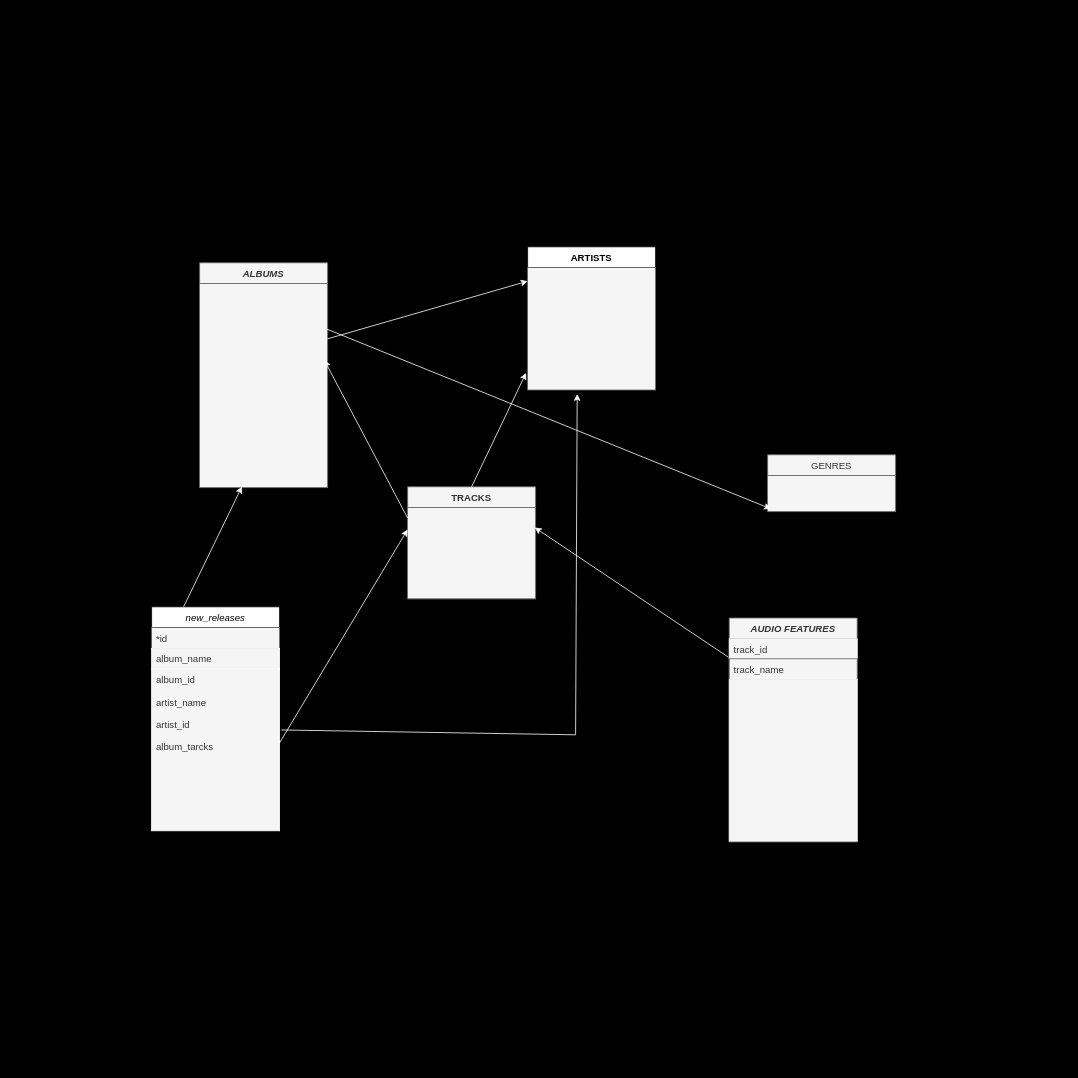
Image size: 1078x1078. Some labels were removed from this diagram. The centre of each missing label's shape, as x and y in pixels:
"* id album artists" belongs at [471,553].
"* id album_type artists genres tracks release_date total_tracks" belongs at [263,385].
"*id name genres followers popularity" belongs at [591,328].
"*name" belongs at [831,493].
"acousticness danceability tracks release_date total_tracks" belongs at [792,760].
